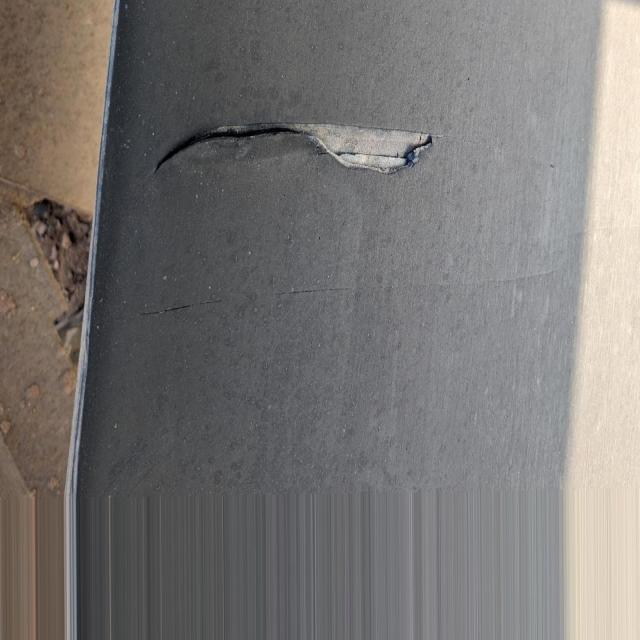Tear: (156, 122, 431, 171)
